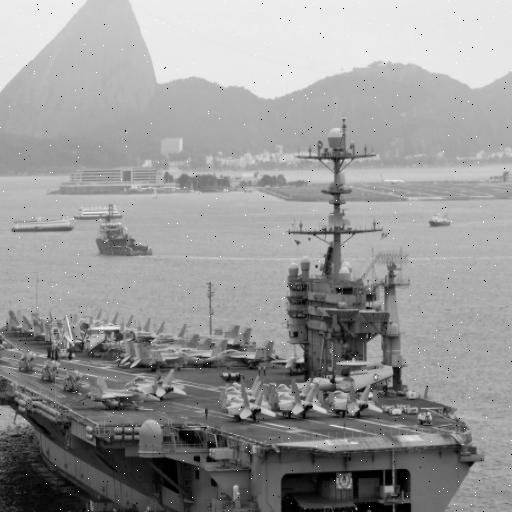Portanaves: (1, 117, 488, 512)
